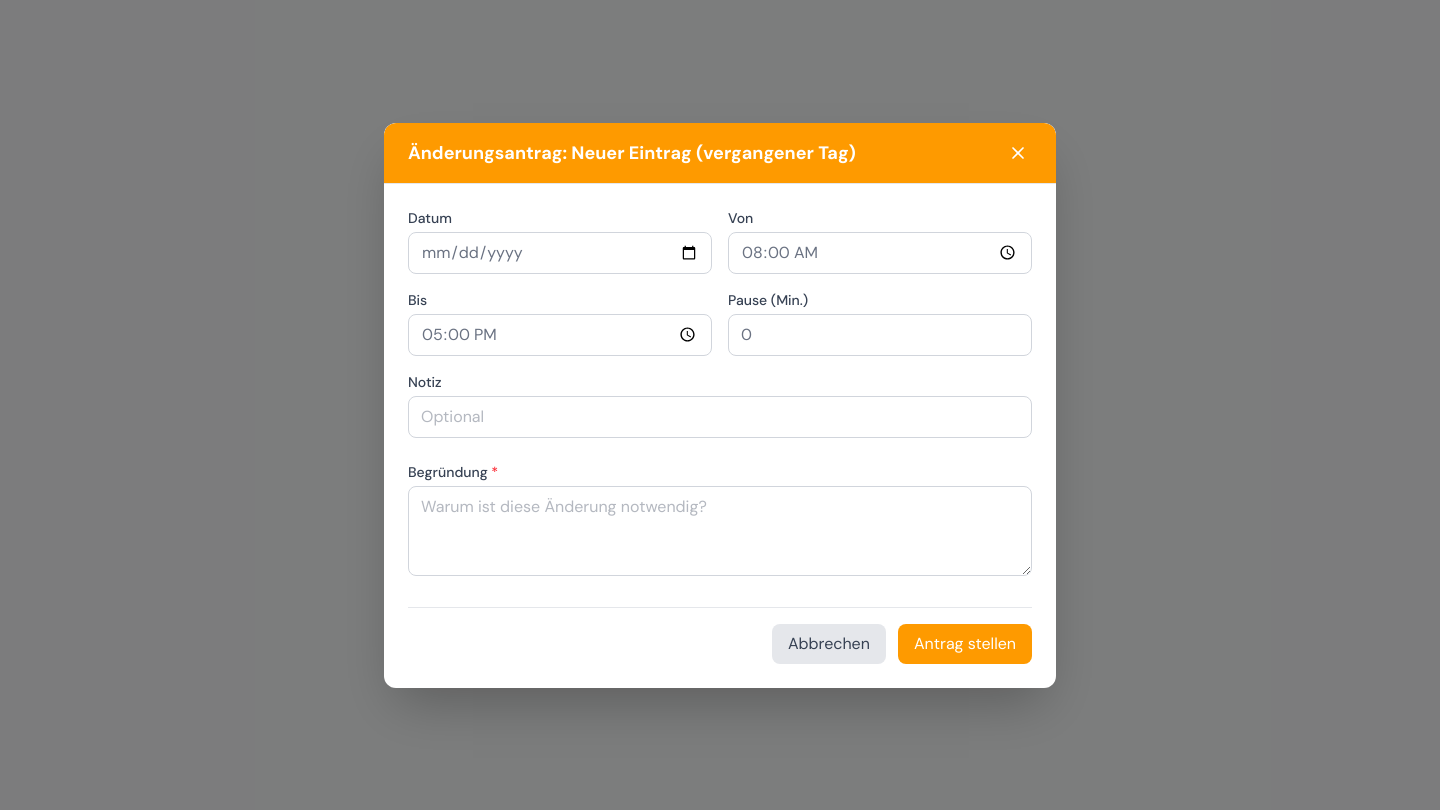
it: ChangeRequestForm — §10-Ausnahmegrund (#491 F4) › fragt an einem gesetzlichen Feiertag unter der Woche ebenfalls
In the date field labelled "Datum": (560, 252) [408,232,712,274], type "2026-05-14"
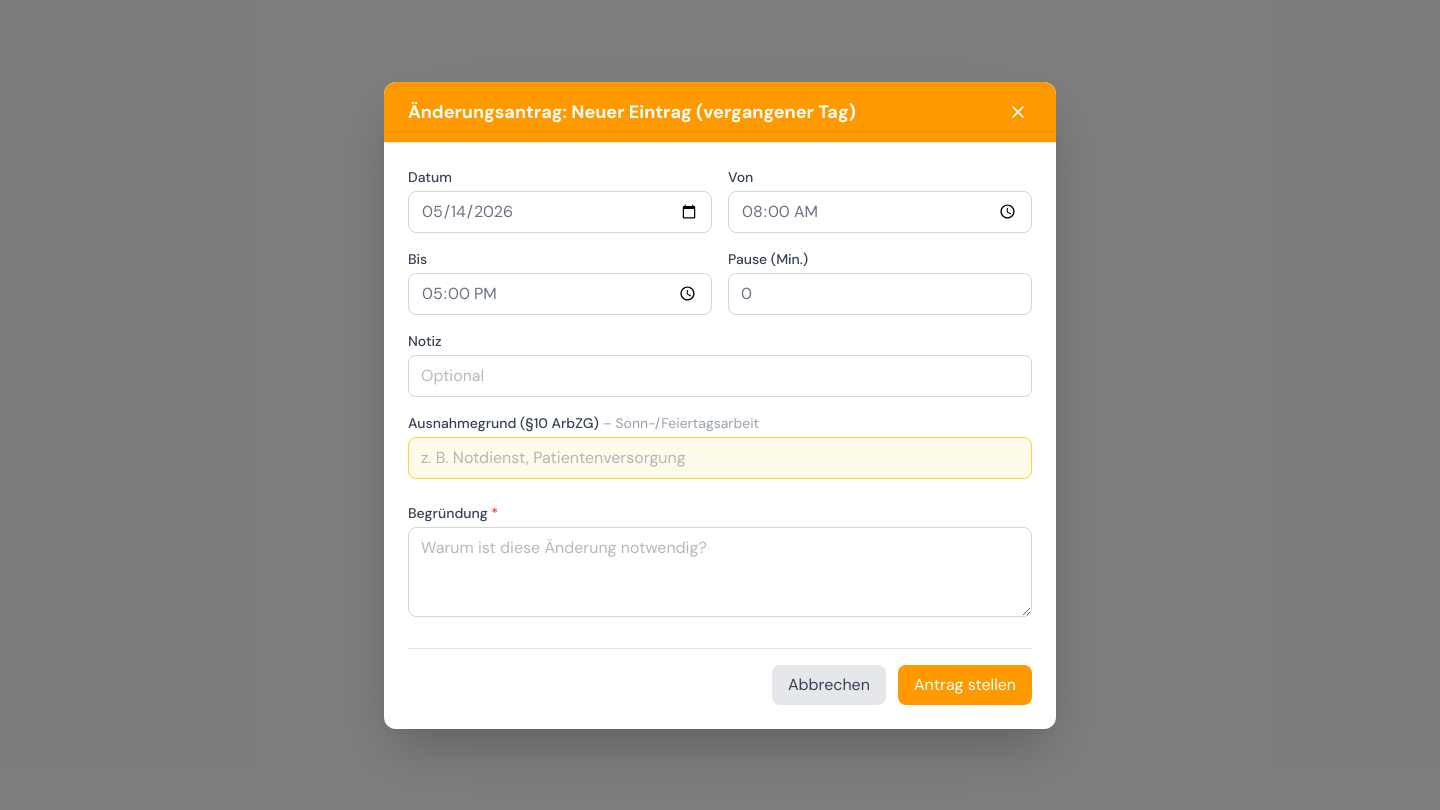
Check: the field labelled "Ausnahmegrund (§10 ArbZG) – Sonn-/Feiertagsarbeit" is shown, box [408,436,1032,478]
